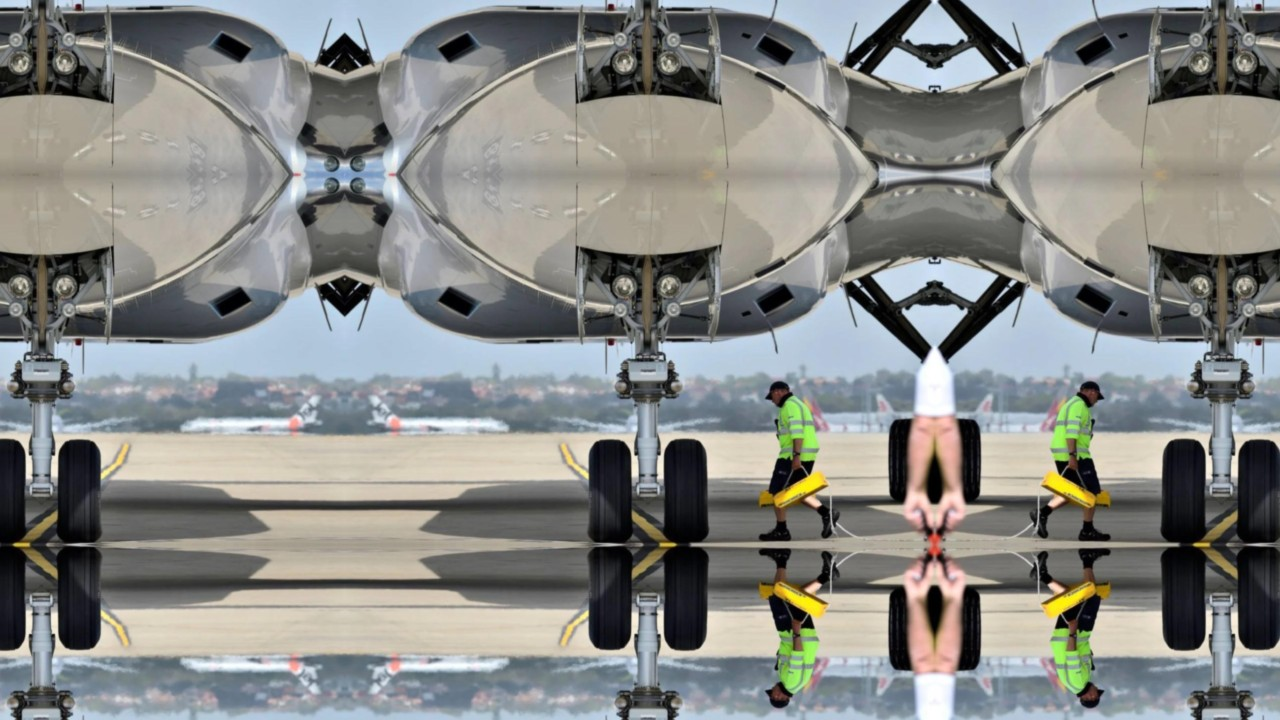chock: (771, 470, 831, 509), (1040, 470, 1100, 509), (771, 582, 831, 620), (1040, 582, 1100, 620), (759, 488, 816, 506), (1055, 488, 1112, 506), (759, 584, 816, 602), (1055, 584, 1112, 602)
wheel: (57, 439, 103, 542), (586, 439, 632, 542), (1162, 439, 1208, 542), (57, 548, 103, 651), (586, 548, 632, 651), (1162, 548, 1208, 651), (663, 439, 708, 542), (663, 548, 708, 651), (1238, 439, 1280, 542), (1238, 548, 1280, 651), (0, 439, 27, 542), (0, 548, 27, 651), (888, 419, 911, 501), (959, 419, 982, 501), (888, 589, 911, 671), (959, 589, 982, 671)
